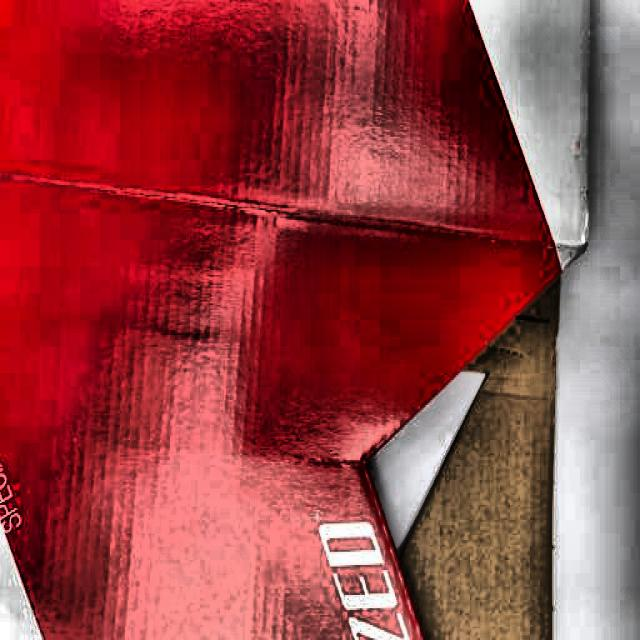cardboard: (7, 12, 597, 629)
